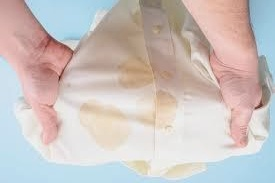oil: (83, 99, 137, 151), (118, 42, 165, 96), (139, 87, 180, 127)
